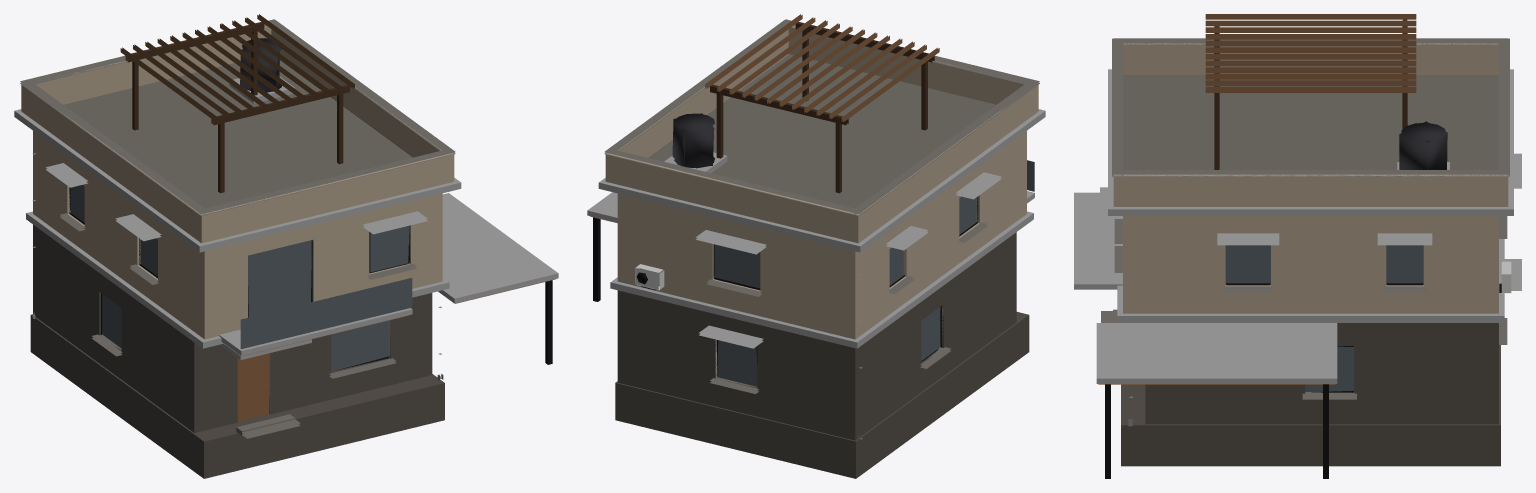
File: city_house_8x10_2_far.glb
3 renders of one model, left to right at view 1: azimuth 30°, elevation 25°; view 2: azimuth 150°, elevation 25°; view 3: azimuth 270°, elevation 25°, orthographic. The views are drawn at different scales.
Parts seen in each view (by area): view 1: city_house_8x10_2; view 2: city_house_8x10_2; view 3: city_house_8x10_2.
Part boxes in pixels (bbox=[...]): city_house_8x10_2: bbox=[14, 14, 558, 478]; city_house_8x10_2: bbox=[587, 14, 1045, 478]; city_house_8x10_2: bbox=[1074, 14, 1521, 478].
Size of the model in its own units: 12.11 by 10.29 by 11.91.
